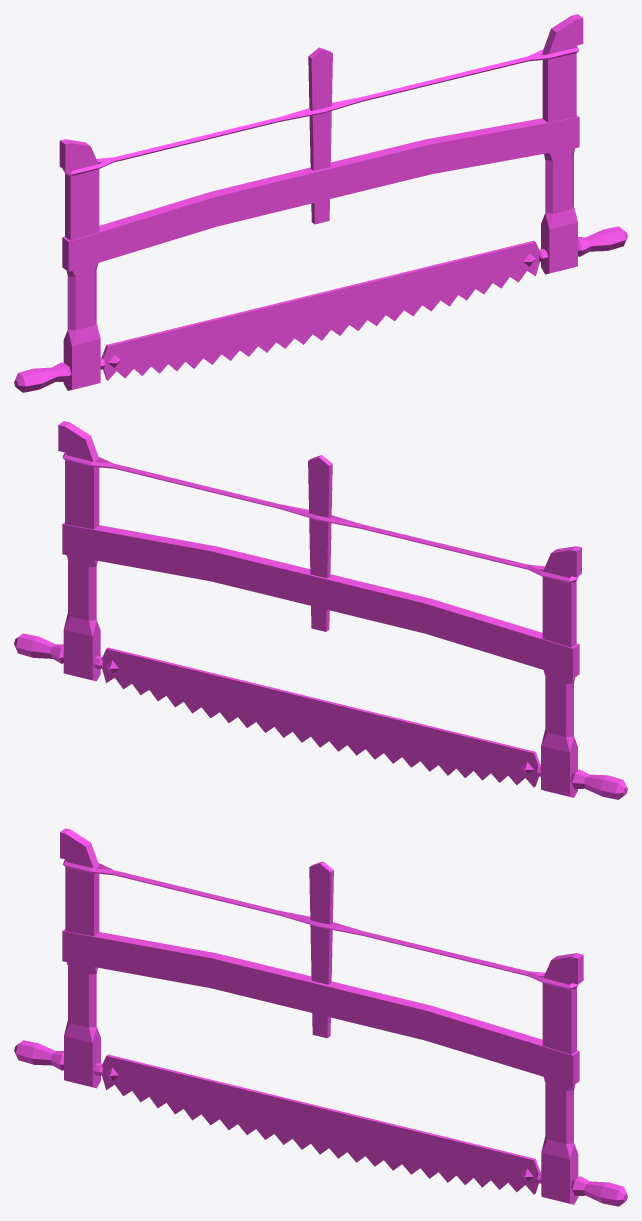
The model's file is SM_saw_Frame_Fantasy.fbx.
3 renders of one model, top to bottom at view 1: azimuth 30°, elevation 25°; view 2: azimuth 150°, elevation 25°; view 3: azimuth 330°, elevation 25°, orthographic.
Visible parts, largest first — view 1: SM_saw_Frame_Fantasy; view 2: SM_saw_Frame_Fantasy; view 3: SM_saw_Frame_Fantasy.
Boxes of the visible parts, x1=… form: SM_saw_Frame_Fantasy: x1=14, y1=14, x2=627, y2=392; SM_saw_Frame_Fantasy: x1=14, y1=421, x2=627, y2=799; SM_saw_Frame_Fantasy: x1=14, y1=828, x2=627, y2=1206.
Size of the model in its own units: 1.29 by 0.5909 by 0.0407.
